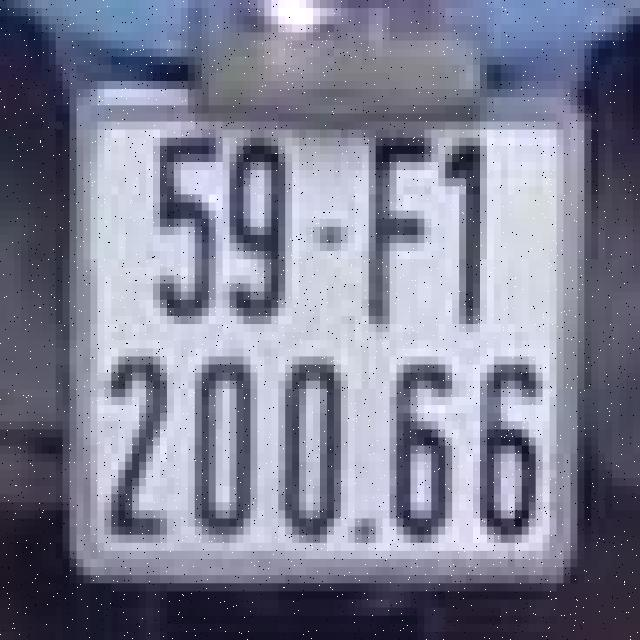0: (181, 352, 264, 539), (275, 348, 344, 535)
1: (438, 138, 501, 340)
2: (101, 332, 177, 551)
5: (150, 114, 219, 332)
6: (379, 348, 470, 551), (470, 348, 539, 551)
9: (223, 118, 306, 336)
F: (348, 122, 438, 332)
